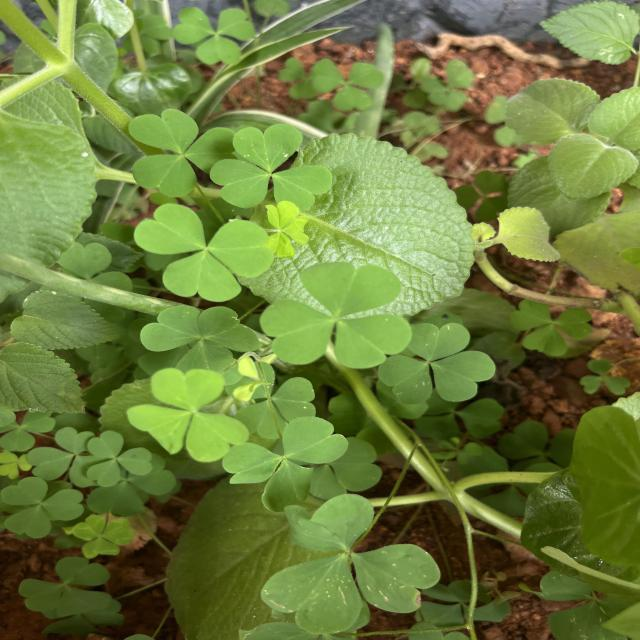Oxalis corniculata: (259, 492, 442, 635), (258, 260, 414, 369), (132, 202, 273, 303), (126, 366, 251, 464), (208, 122, 334, 212), (126, 108, 238, 198), (376, 322, 496, 406), (138, 305, 260, 368), (0, 475, 85, 539), (86, 430, 154, 488)
